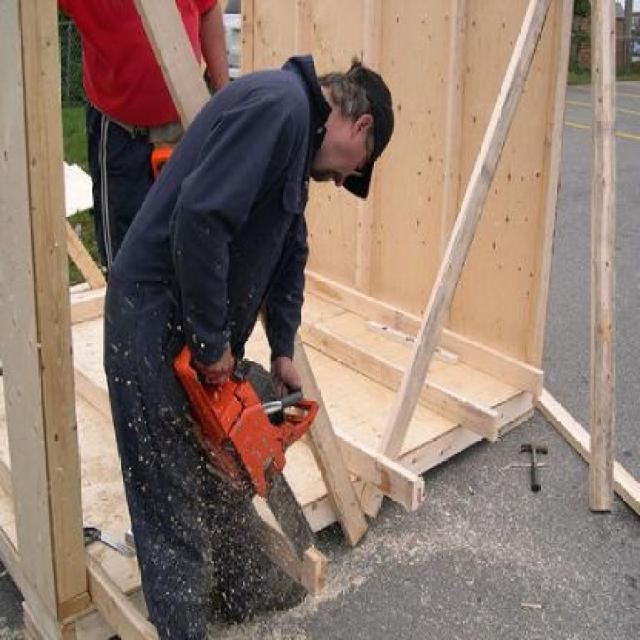Chainsaw: (177, 322, 321, 563)
